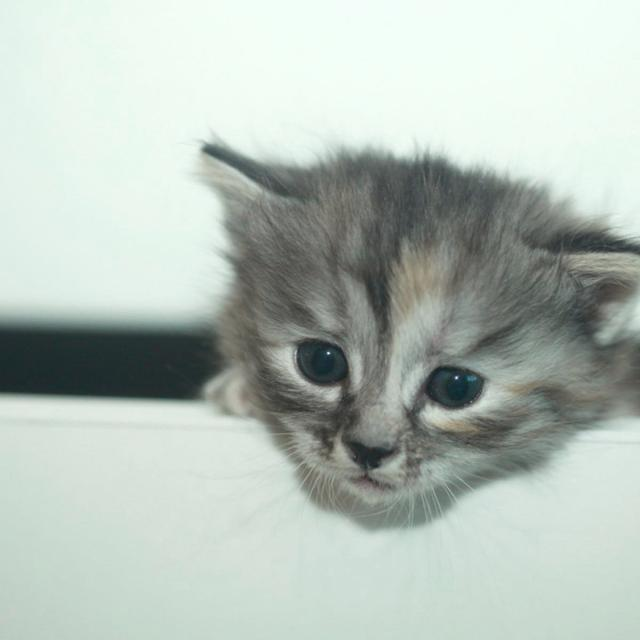cat: (201, 142, 640, 526)
